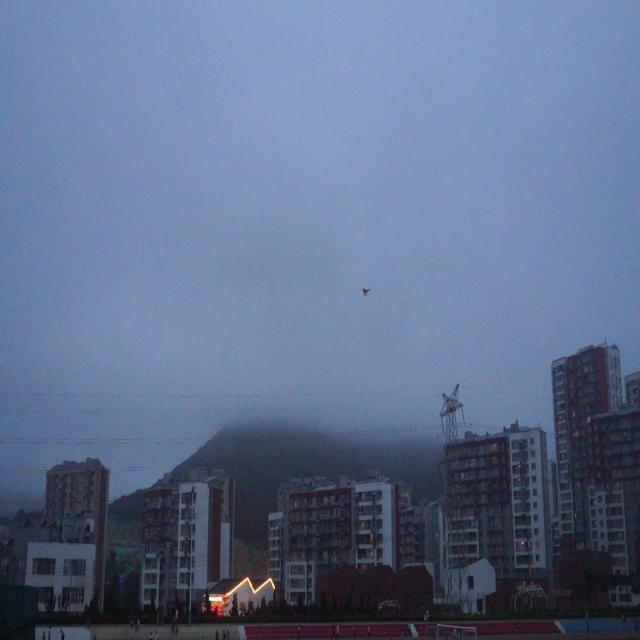drone: (360, 282, 372, 300)
